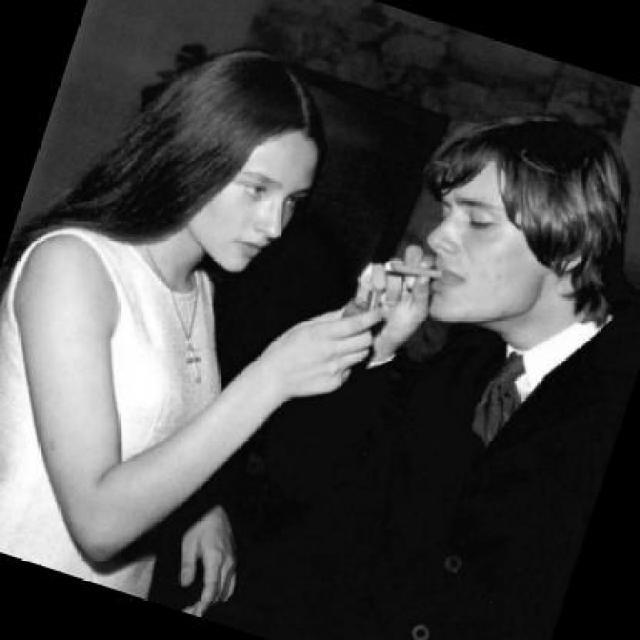smoke: (365, 237, 445, 366)
